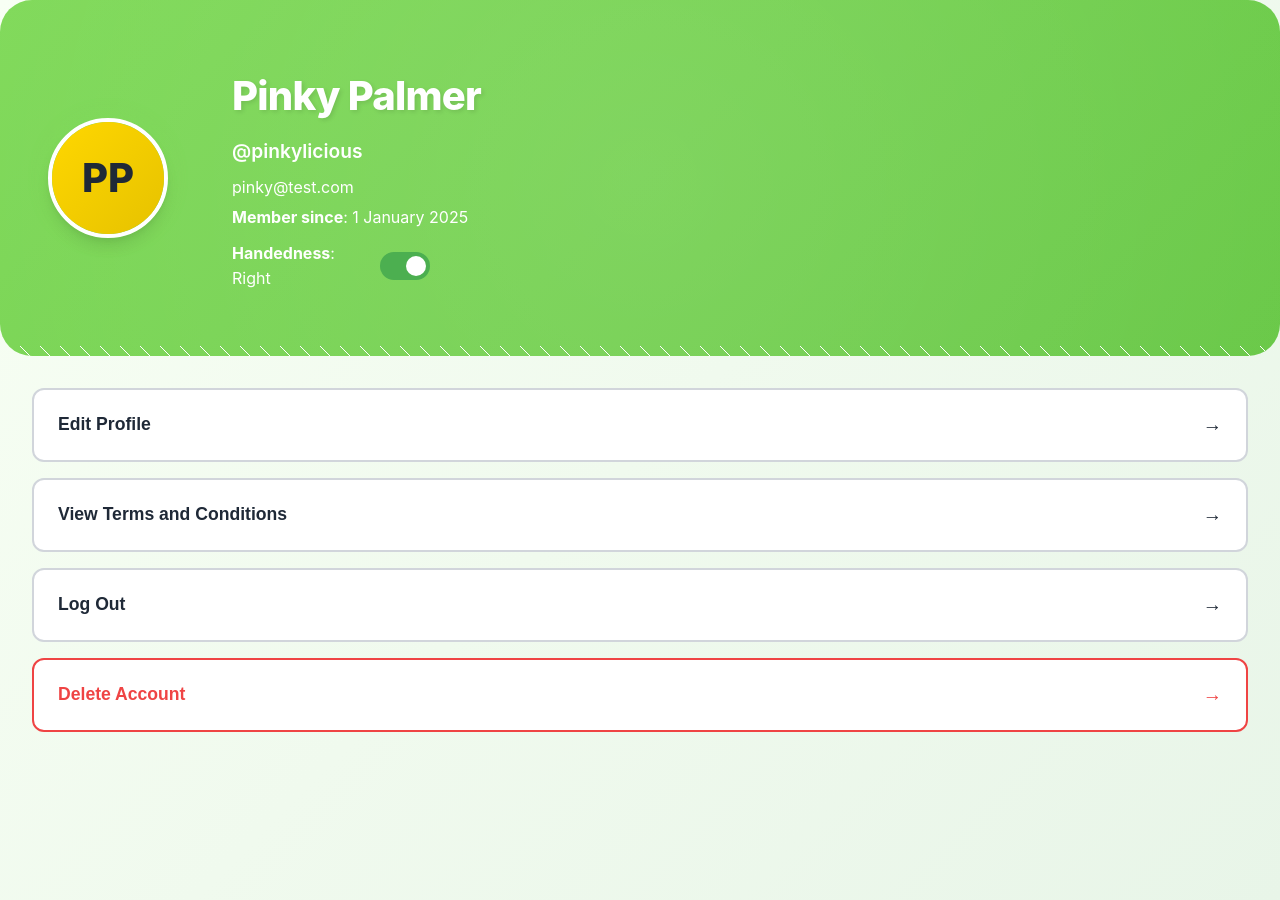
Test case: UserProfile › shows error if no changes are detected when saving
The image size is (1280, 900).
Click the button "Edit Profile →" at (104, 424), box [32,388,1248,462]
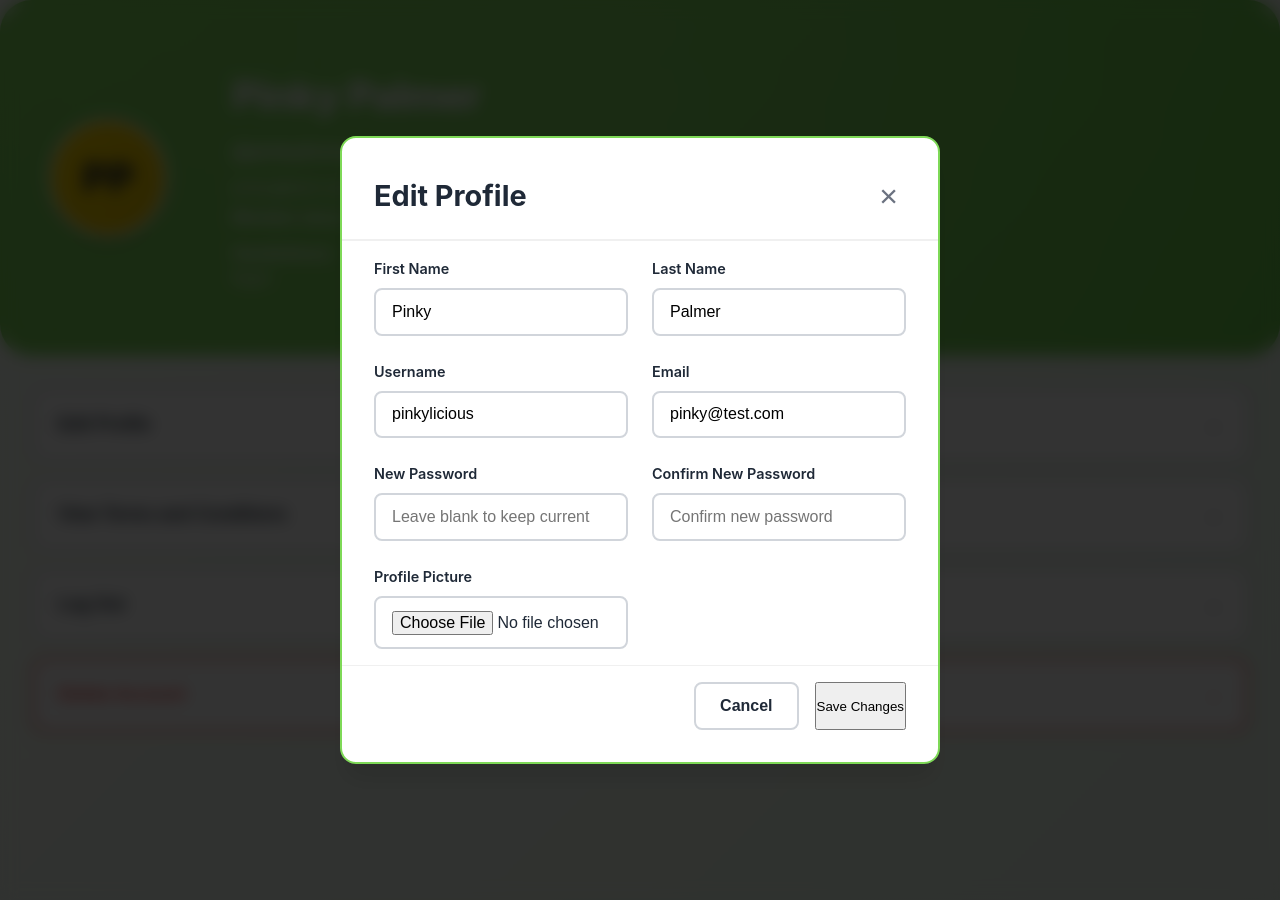
Click the button "Save Changes" at (860, 706), box [815,682,906,730]
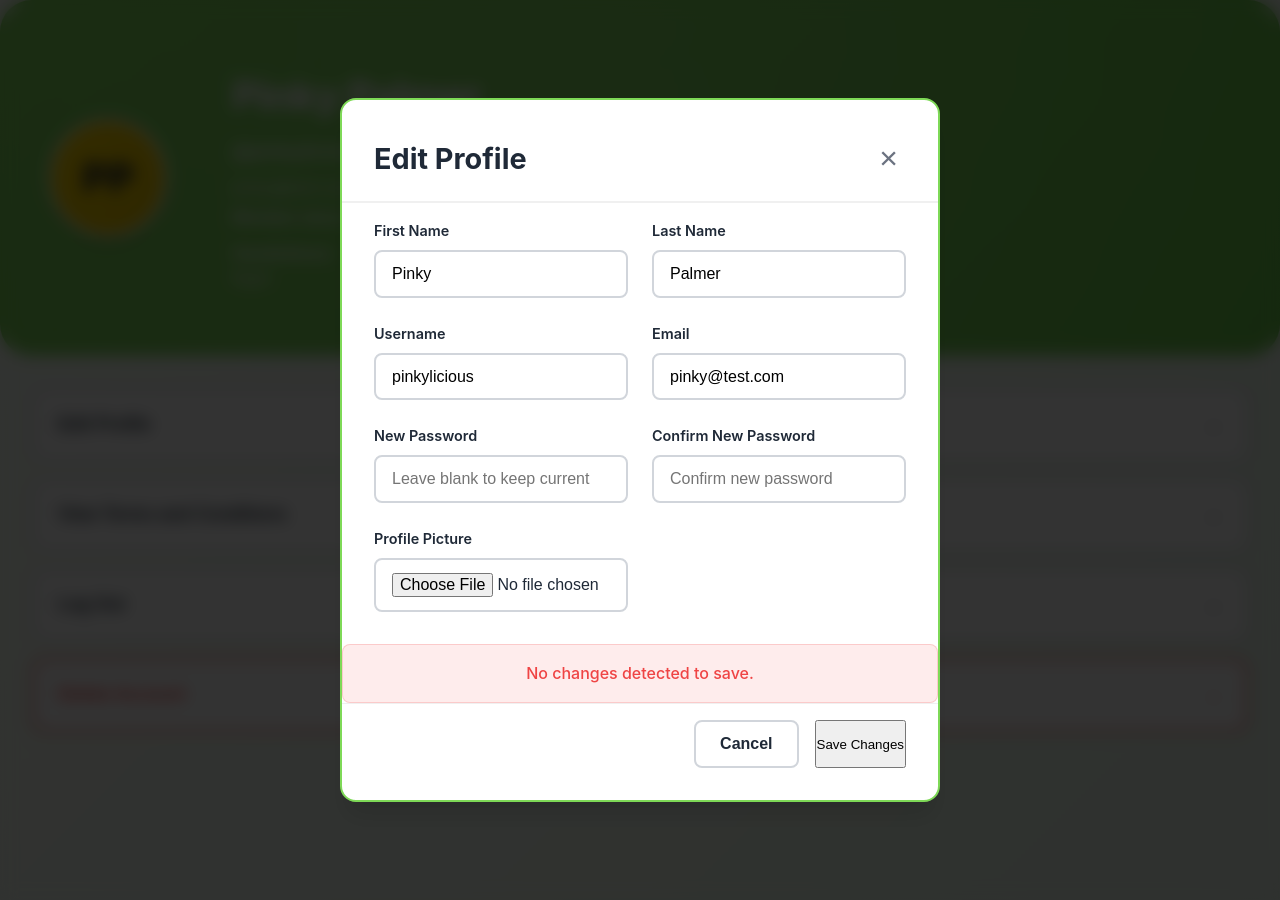
Check: the text "No changes detected to save." is shown, box [342,644,938,703]
